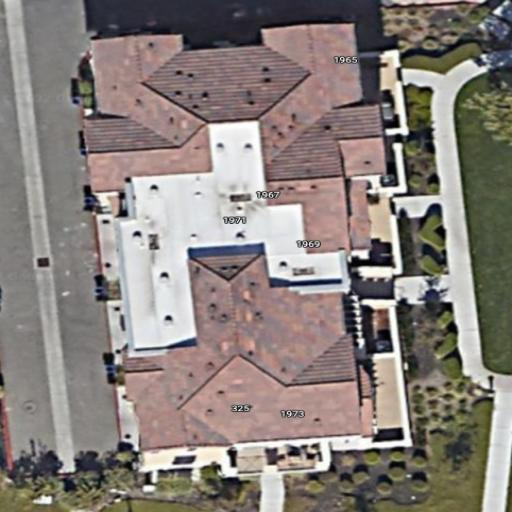Slope-Flat-Roof: (88, 24, 382, 451)
